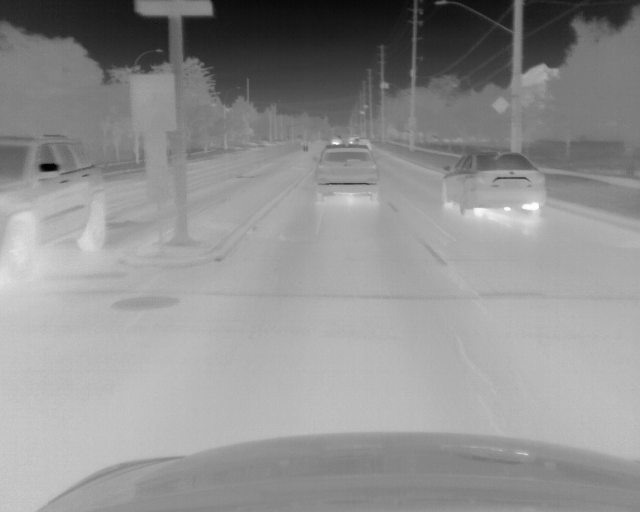car: (1, 133, 111, 278), (440, 149, 546, 222), (314, 145, 383, 203)
